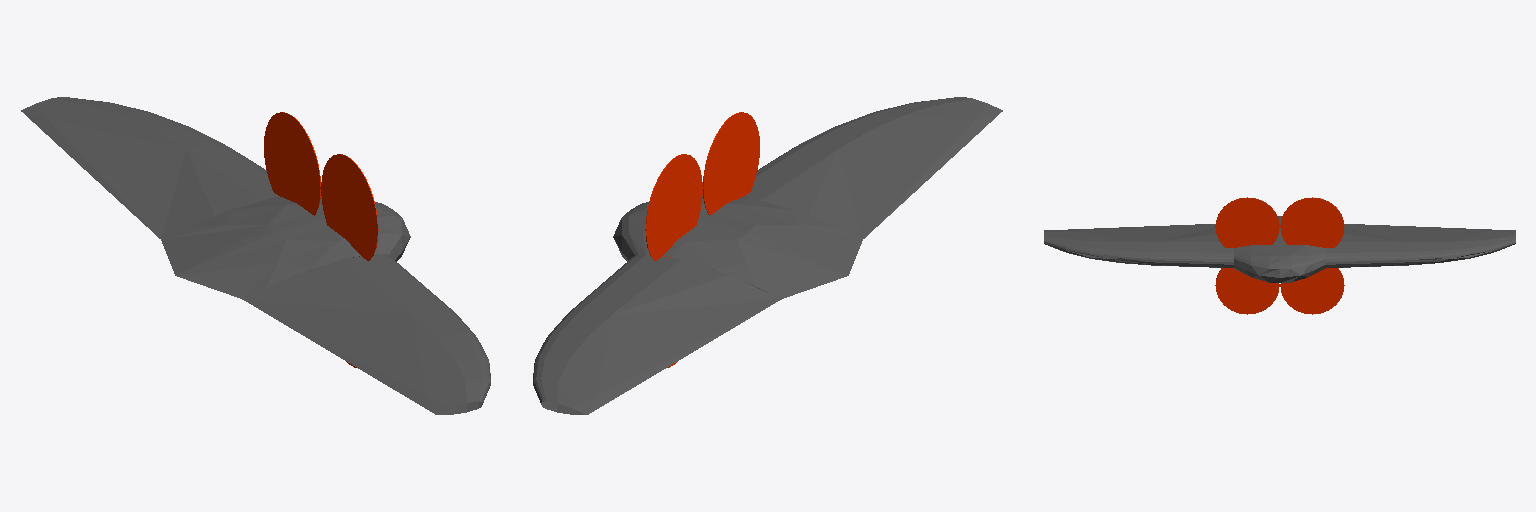
robot.urdf — Falcon:
<?xml version="1.0" ?>

<robot name="Falcon">

  <material name="white">
    <color rgba="1. 1. 1. 1.0"/>
  </material>

  <material name="black">
    <color rgba="0. 0. 0. 1.0"/>
  </material>

  <material name="blue0">
    <color rgba="15./255. 141./255. 238./255. 1.0"/>
  </material>

  <material name="darkgrey">
    <color rgba="0.4 0.4 0.4 1.0"/>
  </material>

  <material name="blue1">
    <color rgba="0.06 0.46 0.9 0.6"/>
  </material>

  <material name="orange_red">
    <color rgba="1 0.25 0 0.4"/>
  </material>

  <configuration type="winged_vtol_physics"/>


  <properties arm="0.0" kf="0" km="0" thrust2weight="0" max_speed_kmh="0" gnd_eff_coeff="0" prop_radius="3.31348e-2" drag_coeff_xy="0" drag_coeff_z="0" dw_coeff_1="0" dw_coeff_2="0" dw_coeff_3="0"/>

  <control>
    <indi actuator_nr="4" output_nr="4" />
    <indi_1 roll="   20. -20. -20. 20." />
    <indi_2 pitch="  40.  -40. 40. -40." />
    <indi_3 yaw=" -20. -20. 20. 20." />
    <indi_4 thrust=" 50. 50. 50. 50." />

    <indi_guidance_gains>
      <pos kp="1.8" kd="1.8"/>
    </indi_guidance_gains>

    <indi_att_gains>
      <att  p="3." q="3." r="5." />
      <rate p="18." q="18." r="10." />
    </indi_att_gains>

    <pwm>
      <pwm2rpm scale="0. 0. 0. 0." const="0. 0. 0. 0." />
      <limit min="0.  0.  0.  0" max="1.  1.  1.  1." />
    </pwm>
  </control>

    <aero_coeffs>
    <ref rho="1.225" alpha0="0.47" Sref="0.075" Bref="0.7" Cref="0.1" Vref="18." oswald="0.7" AR="6" M="60" epsilon="0.16" actuator_nr="4"/>
    <CL  CL = "0.5" CL0="0.15"   CL_alpha="5.61" CL_q="7.95"   CL_del_e="0.13"/>
    <CD  CD = "0.2" CD0="0.043"  CD_alpha="0.03"  CD_q="0.0" CD_p="0.0" CD_del_e="0.0135"/>
    <CY  CY0="0.0"   CY_beta="-0.83"  CY_p="0.0" CY_r="0.0"  CY_del_r="0.19" CY_del_a="0.075"/>
    <Cl  Cl_beta="0.13"  Cl_p="-0.51" Cl_r="0.045" Cl_del_a="0.17" Cl_del_r="0.0024"/>
    <Cm  Cm0="0.0035" Cm_alpha=" -1.74" Cm_q="-38.21" Cm_del_e="-0.99"/>
    <Cn  Cn_beta="0.073"  Cn_p="-0.069" Cn_r="-0.095" Cn_del_a="-0.011" Cn_del_r="-0.069"/>
  </aero_coeffs>

  <motor_coeffs>
    <Thrust angle_deg = "5" x_pos = "0" y_pos = "0." z_pos = "0.1"/>
    <Coeffs C_Q0 = "0." C_Q1 = "0." C_Q2 = "0." KQ = "0." R_motor = "0." i0 = "0." KV = "0.0" C_T0 = "-0.1" C_T1 = "-0.0" C_T2 = "0.0" V_max="0." />
    <Prop D_prop = "0.508"/>
  </motor_coeffs>


  <link name="base_link"> 
    <inertial>
      <origin rpy="0 0 0" xyz="0.045 0 0.0"/>
      <mass value="0.420"/>
      <inertia ixx="0.03244" iyy="0.0635" izz="0.0359"/>
    </inertial>

    <visual>
      <origin rpy="0 0 0" xyz="0 0 0"/>
      <geometry>
        <mesh filename="./Falcon.obj" scale="1. 1. 1."/>
      </geometry> 
      <material name="darkgrey"/>
    </visual>

    <collision>
      <origin rpy="0 0 0" xyz="0 0 0"/>
      <geometry>
        <cylinder radius="0.15" length=".1"/>
        <mesh filename="./Falcon.obj" scale="1. 1. 1."/>
      </geometry>
    </collision>  
  </link>

  <link name="center_of_mass_link">
    <inertial>
      <origin rpy="0 0 0" xyz="0.045 0 0"/>
      <mass value="0"/>
      <inertia ixx="0" ixy="0" ixz="0" iyy="0" iyz="0" izz="0"/>
    </inertial>
  </link>
  <joint name="center_of_mass_joint" type="fixed">
    <parent link="base_link"/>
    <child link="center_of_mass_link"/>
  </joint>

  <link name="UR_link">
    <inertial>
      <origin rpy="0 0 0" xyz="0.018 0.0707 0.0707"/>
      <mass value="0"/>
      <inertia ixx="0" ixy="0" ixz="0" iyy="0" iyz="0" izz="0"/>
    </inertial>
    <visual>
      <origin rpy="0 1.5708 0" xyz="0.018 0.0707 0.0707"/>
      <geometry>
        <cylinder radius="0.07" length=".001"/>
      </geometry>
      <material name="orange_red"/>
    </visual>
  </link>
  <joint name="UR_joint" type="fixed">
    <parent link="base_link"/>
    <child link="UR_link"/>
  </joint>

  <link name="LR_link">
    <inertial>
      <origin rpy="0 0 0" xyz="0.018 0.0707 -0.0707"/>
      <mass value="0"/>
      <inertia ixx="0" ixy="0" ixz="0" iyy="0" iyz="0" izz="0"/>
    </inertial>
    <visual>
      <origin rpy="0 1.5708 0" xyz="0.018 0.0707 -0.0707"/>
      <geometry>
        <cylinder radius="0.07" length=".001"/>
      </geometry>
      <material name="orange_red"/>
    </visual>
  </link>
  <joint name="LR_joint" type="fixed">
    <parent link="base_link"/>
    <child link="LR_link"/>
  </joint>

  <link name="UL_link">
    <inertial>
      <origin rpy="0 0 0" xyz="0.018 -0.0707 0.0707"/>
      <mass value="0"/>
      <inertia ixx="0" ixy="0" ixz="0" iyy="0" iyz="0" izz="0"/>
    </inertial>
    <visual>
      <origin rpy="0 1.5708 0" xyz="0.018 -0.0707 0.0707"/>
      <geometry>
        <cylinder radius="0.07" length=".001"/>
      </geometry>
      <material name="orange_red"/>
    </visual>
  </link>
  <joint name="UL_joint" type="fixed">
    <parent link="base_link"/>
    <child link="UL_link"/>
  </joint>

  <link name="LL_link">
    <inertial>
      <origin rpy="0 0 0" xyz="0.018 -0.0707 -0.0707"/>
      <mass value="0"/>
      <inertia ixx="0" ixy="0" ixz="0" iyy="0" iyz="0" izz="0"/>
    </inertial>
    <visual>
      <origin rpy="0 1.5708 0" xyz="0.018 -0.0707 -0.0707"/>
      <geometry>
        <cylinder radius="0.07" length=".001"/>
      </geometry>
      <material name="orange_red"/>
    </visual>
  </link>
  <joint name="prop4_joint" type="fixed">
    <parent link="base_link"/>
    <child link="LL_link"/>
  </joint>


</robot>

--- Render facts (derived) ---
The picture shows the robot from 3 angles, left to right: view 1: azimuth 30°, elevation 25°; view 2: azimuth 150°, elevation 25°; view 3: azimuth 270°, elevation 25°; orthographic projection.
Robot: Falcon — 6 links, 5 joints (5 fixed); root link base_link; default pose: all joints at 0.
Visible links, largest first — view 1: base_link, UL_link, UR_link; view 2: base_link, UR_link, UL_link; view 3: base_link, UR_link, UL_link, LR_link, LL_link.
Boxes of the visible links, x1,y1,x2,y2 form: base_link: (21,97,490,414); UL_link: (321,154,378,260); UR_link: (264,112,320,215); base_link: (533,97,1002,414); UR_link: (645,154,702,260); UL_link: (703,112,759,215); base_link: (1044,216,1515,282); UR_link: (1280,197,1344,247); UL_link: (1215,197,1279,247); LR_link: (1280,268,1344,314); LL_link: (1215,268,1279,314).
Size in the robot's own frame: 0.3215 by 1.03 by 0.2814 metres.
Meshes: 1 distinct files referenced, 1 mesh visuals loaded (1 OBJ).